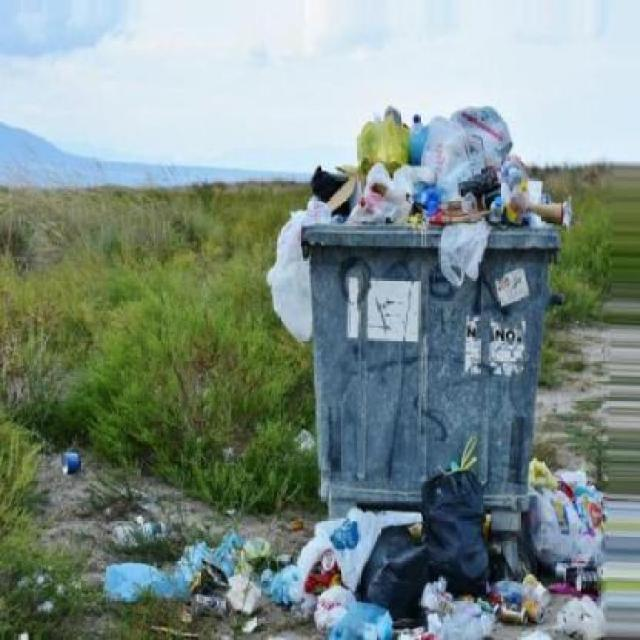garbage: (40, 433, 639, 640), (274, 111, 574, 338)
